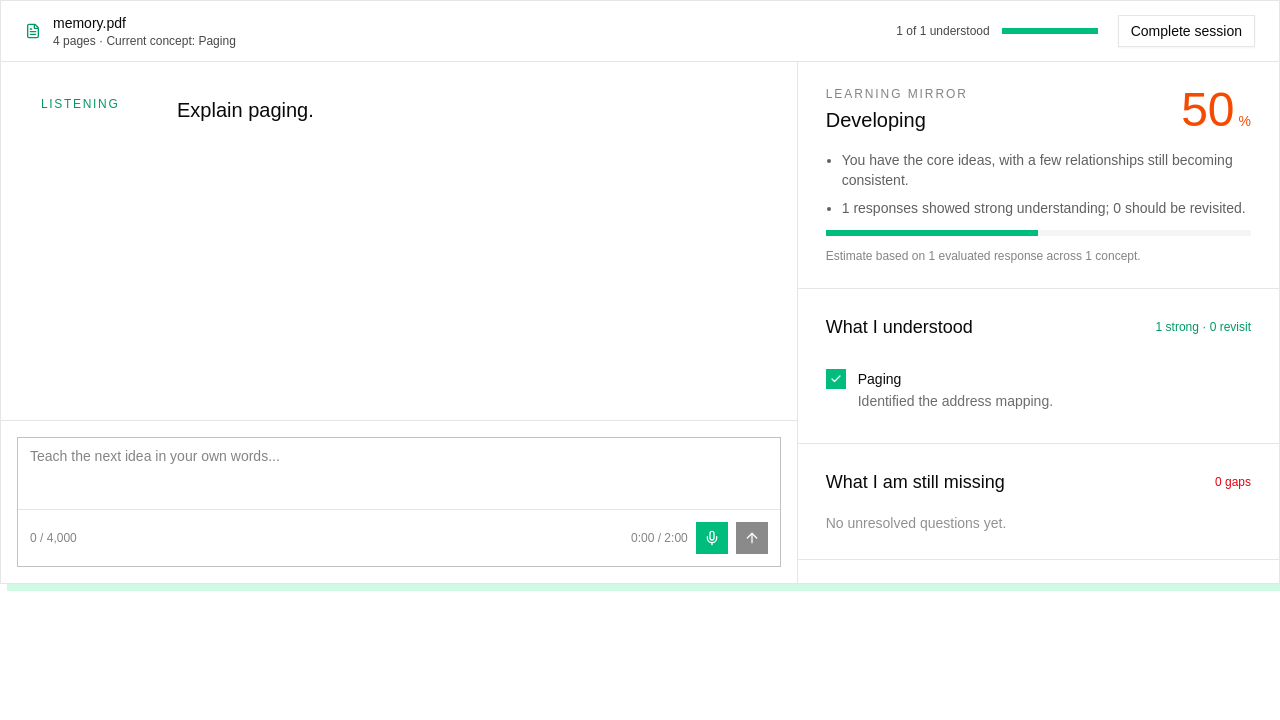
it: SessionWorkspace › scrolls to the latest AI turn after the response is received
Expected: the text "Explain paging." is shown, [177,99,314,121]
Type "A page table maps virtual addresses." into the text box named "Teach the AI learner" at (399, 470), box [18,438,780,502]
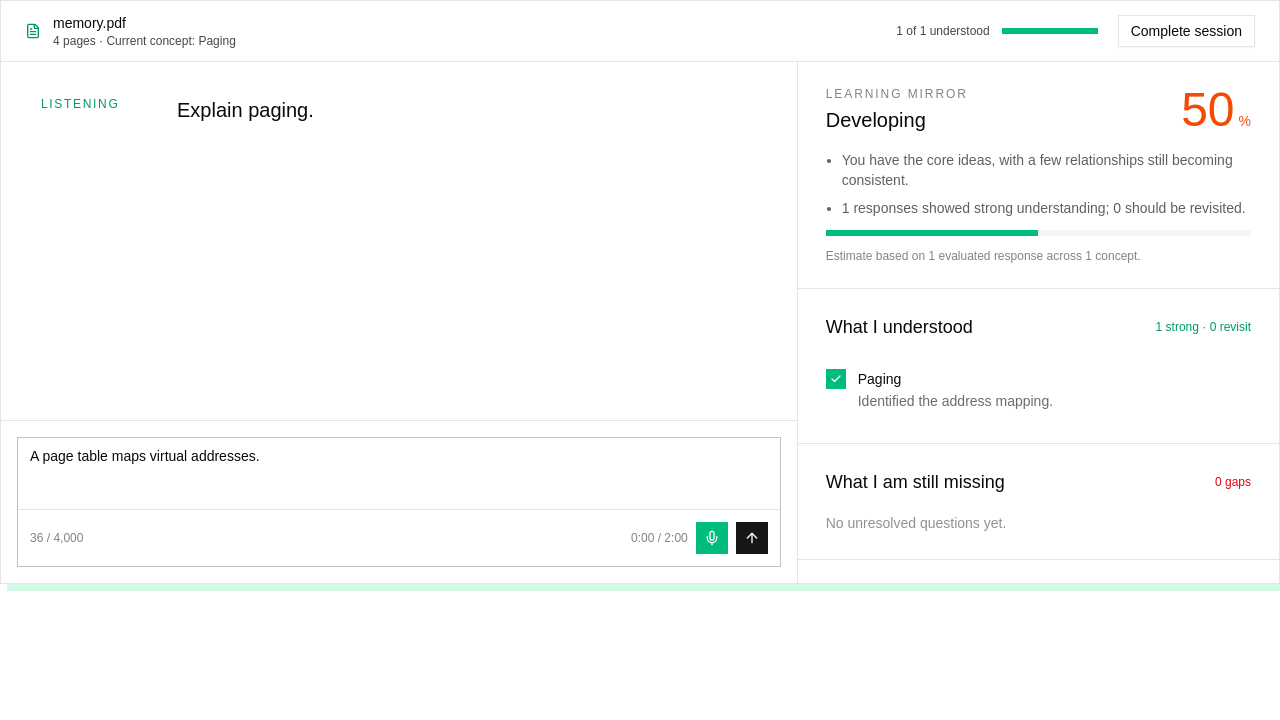
Press Enter in the text box named "Teach the AI learner", box [18,438,780,502]
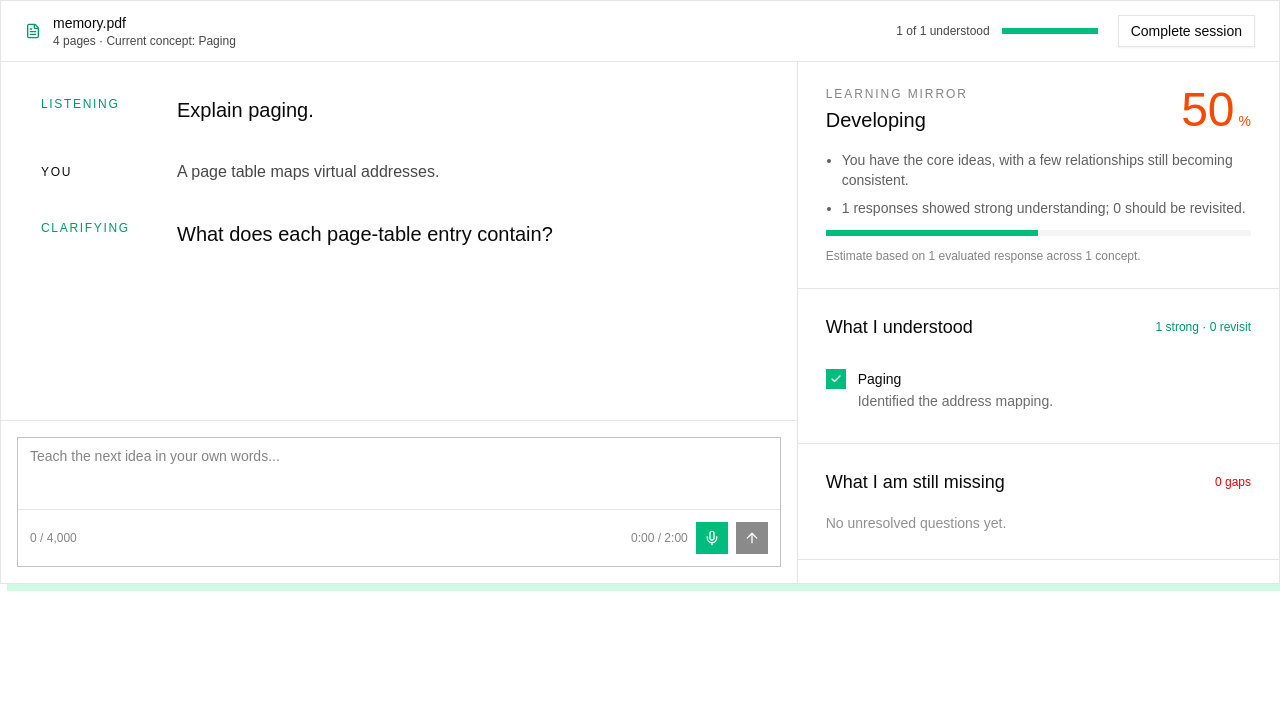
Now the text "What does each page-table entry contain?" is shown, box [177,223,553,245]
